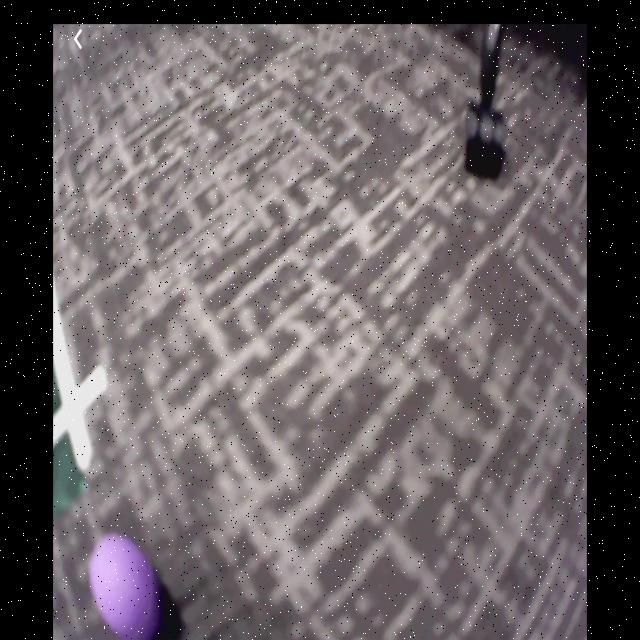ball: (88, 533, 162, 639)
